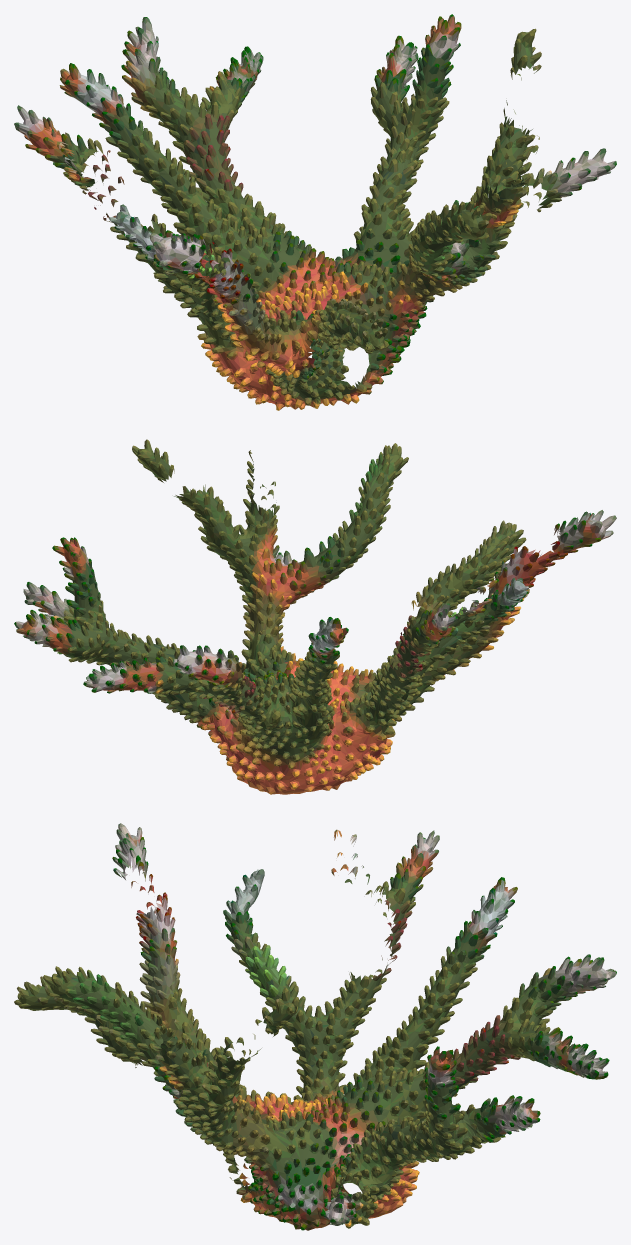
The model's file is acropora_florida_collapsed.glb.
The picture shows the model from 3 angles, top to bottom: view 1: azimuth 30°, elevation 25°; view 2: azimuth 150°, elevation 25°; view 3: azimuth 270°, elevation 25°; orthographic projection. The views are drawn at different scales.
Parts seen in each view (by area): view 1: paint_3, paint_6, paint_18, paint_0, paint_53, paint_19, paint_9, paint_111, paint_252, paint_1, paint_46, paint_17 (+14 smaller); view 2: paint_6, paint_3, paint_18, paint_53, paint_0, paint_19, paint_111, paint_9, paint_252, paint_2, paint_17, paint_46 (+16 smaller); view 3: paint_3, paint_6, paint_18, paint_0, paint_53, paint_9, paint_19, paint_111, paint_252, paint_46, paint_1, paint_37 (+10 smaller).
Part boxes in pixels (x1,y1,x2,y2): paint_3: (45,16,560,399); paint_6: (28,30,560,401); paint_18: (26,29,555,402); paint_0: (14,17,605,396); paint_53: (59,28,552,404); paint_19: (27,22,549,400); paint_9: (14,17,616,379); paint_111: (63,31,559,402); paint_252: (52,14,616,383); paint_1: (44,16,515,401); paint_46: (25,16,581,393); paint_17: (41,16,515,401); paint_6: (62,441,521,758); paint_3: (54,450,563,755); paint_18: (64,440,601,760); paint_53: (64,439,526,761); paint_0: (24,448,603,748); paint_19: (27,448,590,758); paint_111: (66,445,525,758); paint_9: (23,499,615,705); paint_252: (14,511,594,702); paint_2: (225,567,507,791); paint_17: (16,513,595,764); paint_46: (26,520,600,721); paint_3: (27,846,594,1221); paint_6: (17,871,607,1225); paint_18: (16,830,605,1226); paint_0: (27,829,615,1225); paint_53: (14,881,550,1228); paint_9: (72,838,613,1224); paint_19: (66,872,603,1224); paint_111: (15,834,552,1225); paint_252: (114,833,616,1230); paint_46: (112,837,613,1229); paint_1: (141,902,601,1230); paint_37: (117,830,612,1225).
Size of the model in its own units: 2 by 1.06 by 1.93.
